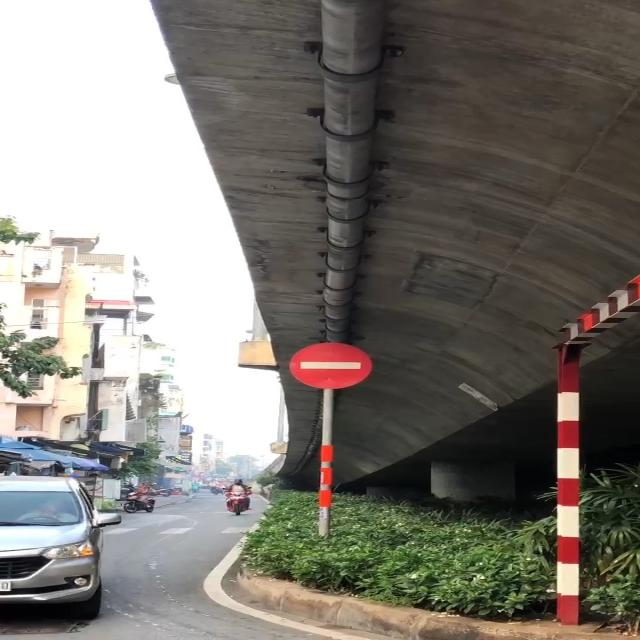Bien bao cam di nguoc chieu: (286, 338, 380, 393)
